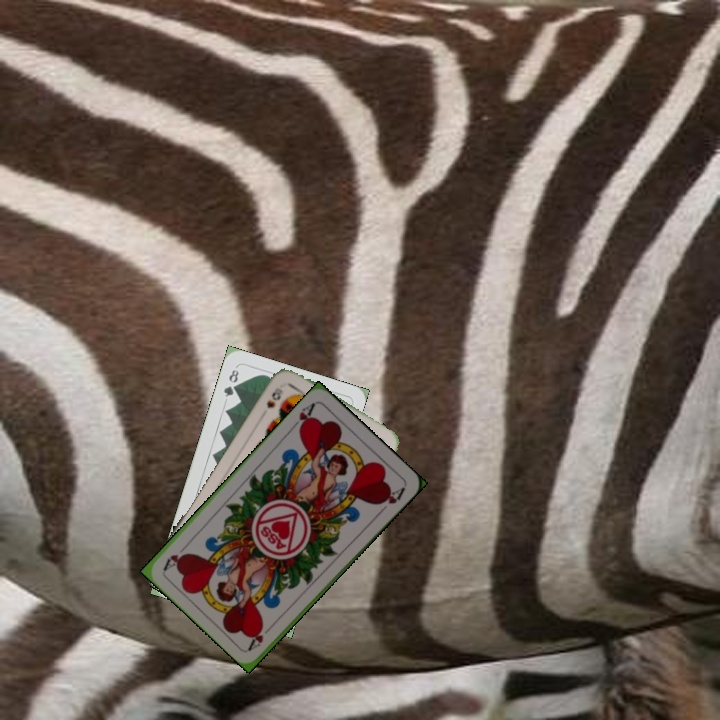G8: (219, 365, 241, 400)
HA: (287, 398, 318, 434), (244, 620, 277, 652)
S8: (262, 383, 286, 411)
